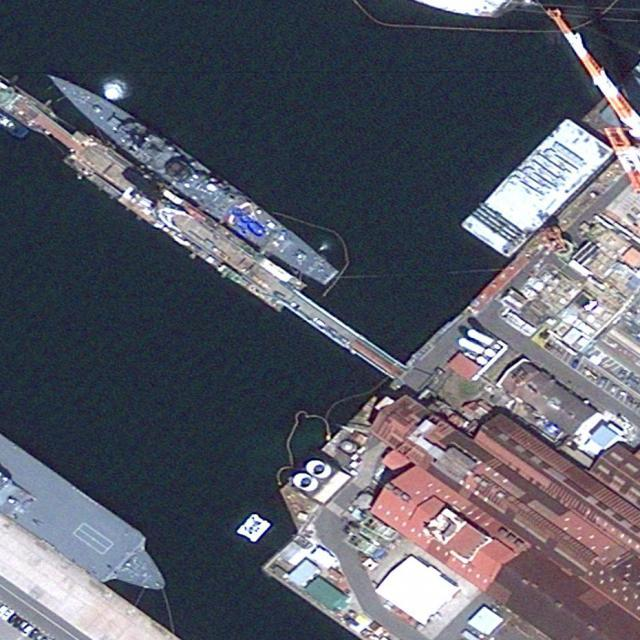Destroyer: (39, 61, 341, 293)
